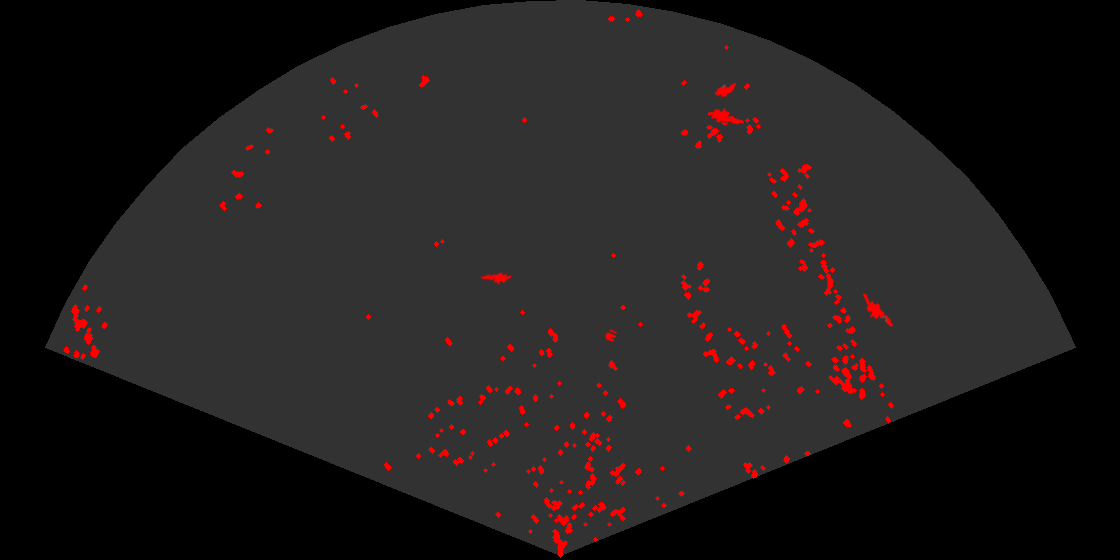AUV: (713, 81, 738, 99)
ball: (603, 328, 619, 343)
frogman: (861, 294, 895, 333), (708, 106, 744, 126), (480, 271, 511, 286)
